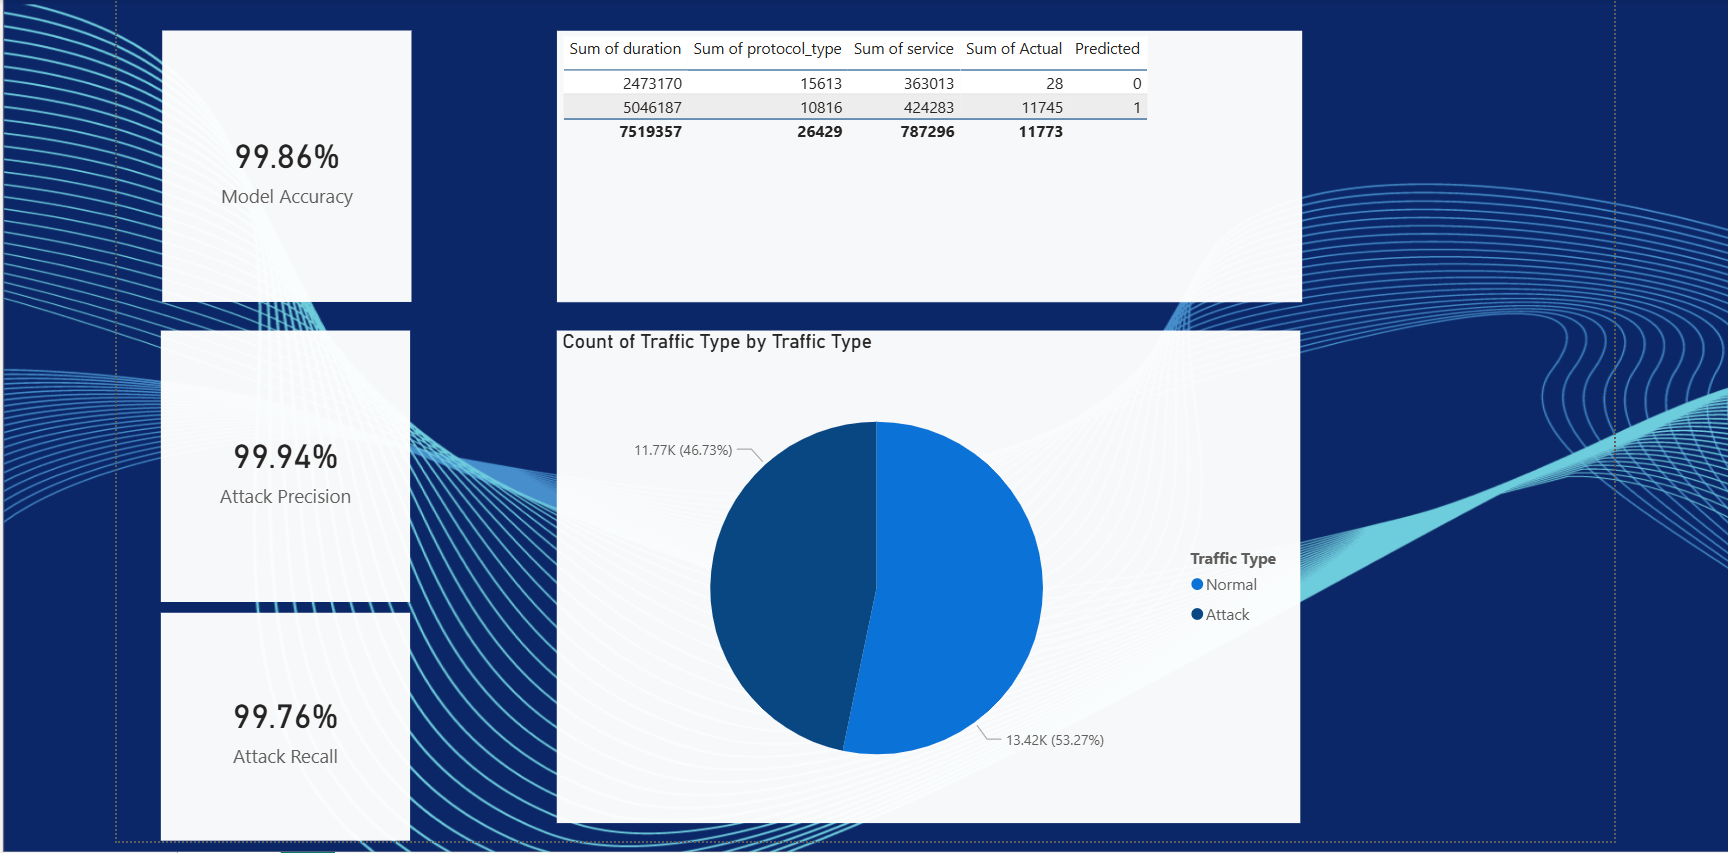

Layout of this report page (visuals, bound fields, positions):
{"tool":"powerbi","page":{"name":"Page 1","canvas":[1280,720],"ordinal":0},"visuals":[{"type":"card","fields":{"Values":["predictions.Accuracy"]},"box":[38.4,27.2,213,232.2],"z":0},{"type":"card","fields":{"Values":["predictions.Precision"]},"box":[38,283,213,232],"z":1000},{"type":"card","fields":{"Values":["predictions.Recall"]},"box":[38,525,213,195],"z":2000},{"type":"tableEx","fields":{"Values":["Sum(predictions.duration)","Sum(predictions.protocol_type)","Sum(predictions.service)","Sum(predictions.Actual)","predictions.Predicted"]},"box":[376,26.9,637.3,231.9],"z":3000},{"type":"pieChart","fields":{"Category":["predictions.Traffic Type"],"Y":["CountNonNull(predictions.Traffic Type)"]},"box":[376.3,283.5,635.8,421.2],"z":4000}]}

Visuals, with their boxes in screenshot pixels (x1, y1, x2, y2):
card - predictions.Accuracy: 157/27/407/299
card - predictions.Precision: 157/327/406/599
card - predictions.Recall: 157/610/406/839
tableEx - Sum(predictions.duration) x Sum(predictions.protocol_type): 553/27/1299/299
pieChart - predictions.Traffic Type x CountNonNull(predictions.Traffic Type): 553/328/1298/821
